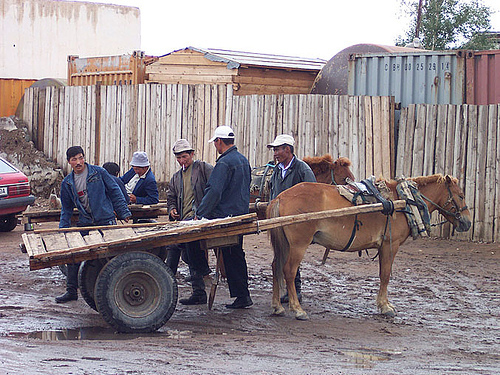horse: (266, 171, 474, 319)
